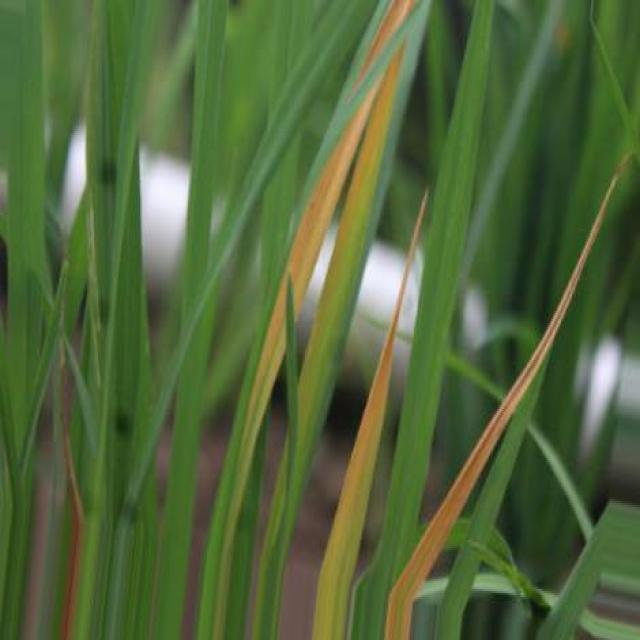Rice Tungro: (385, 156, 628, 639), (199, 83, 378, 637), (313, 193, 427, 639), (361, 0, 413, 78)
